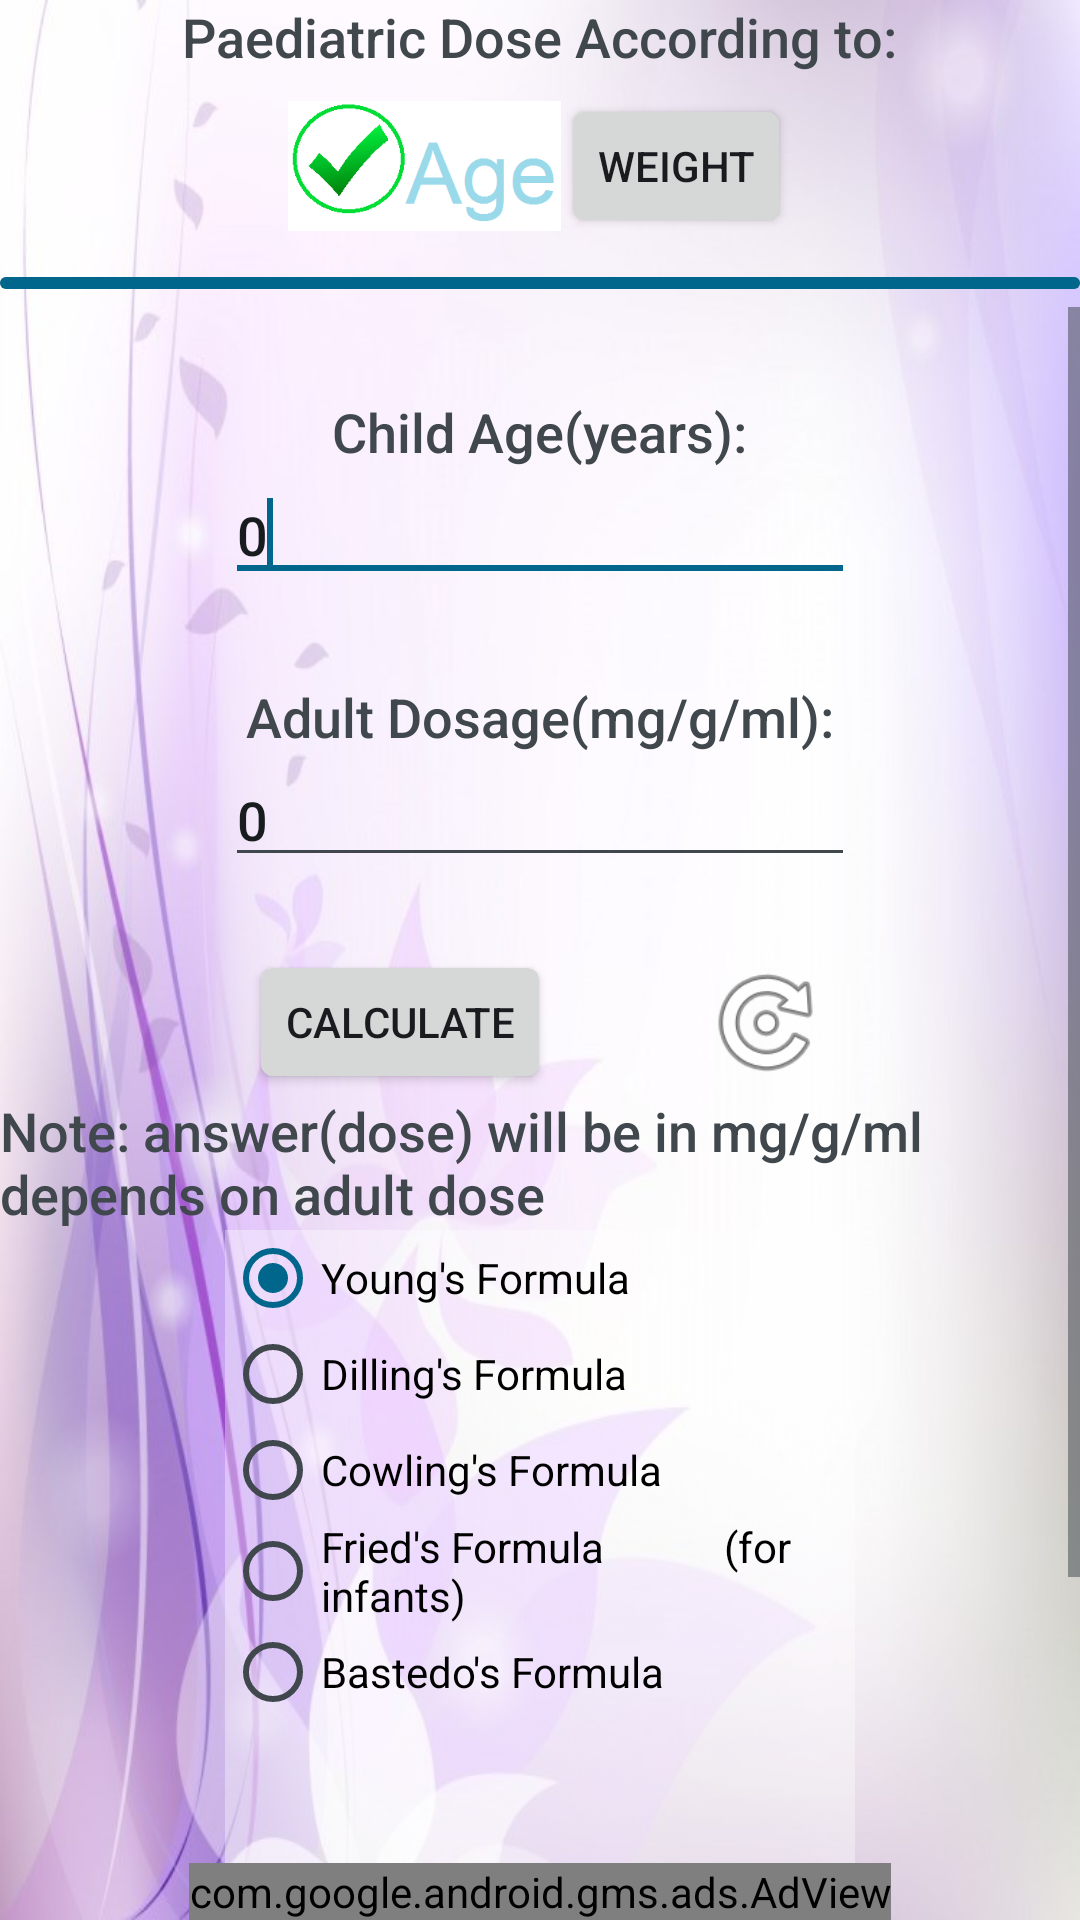

Locate icon controls on the screen. Image size 1080 x 1920, boxes as BBox(x1, y1, x2, y2).
rotate: BBox(718, 974, 813, 1071)
